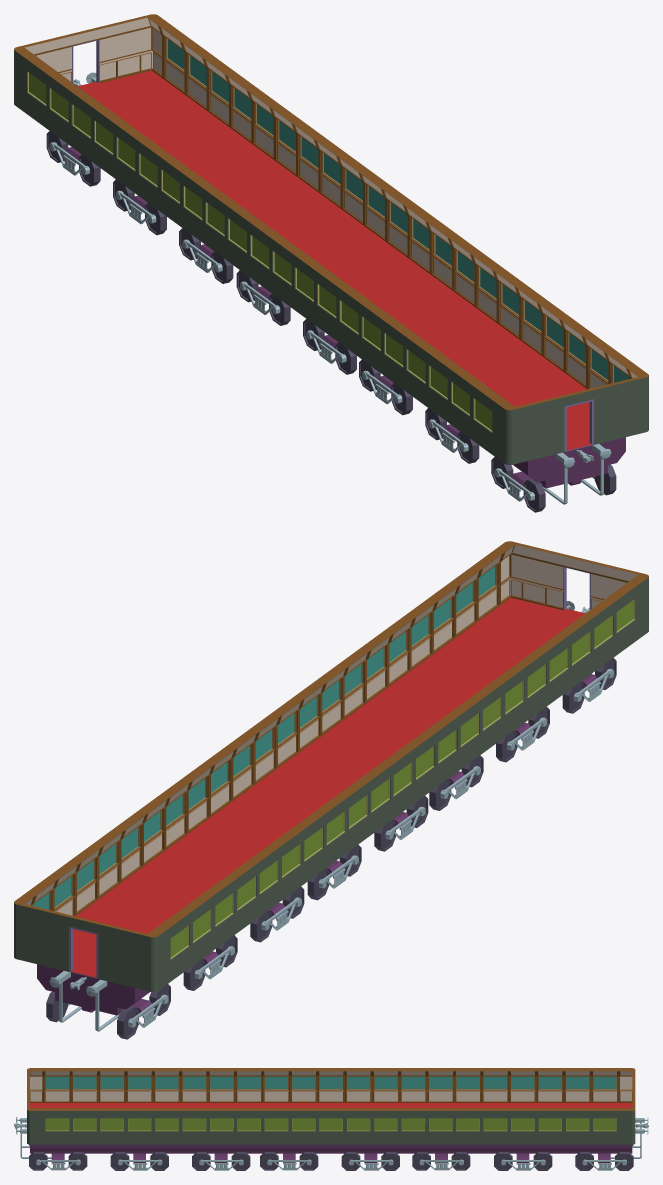
Rendered from Carts_default.fbx.
3 renders of one model, top to bottom at view 1: azimuth 30°, elevation 25°; view 2: azimuth 150°, elevation 25°; view 3: azimuth 270°, elevation 25°, orthographic. The views are drawn at different scales.
Parts seen in each view (by area): view 1: pCube228; view 2: pCube228; view 3: pCube228.
Part boxes in pixels (x1,y1,x2,y2): pCube228: (14, 14, 648, 512); pCube228: (14, 541, 648, 1039); pCube228: (14, 1068, 648, 1170).
Bounding box in the file's own units: 9.16 × 6.92 × 57.19.
